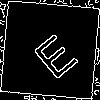E: (25, 25, 81, 81)
